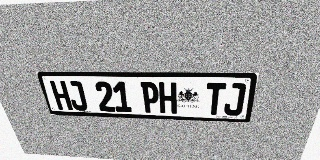1: (111, 81, 132, 112)
2: (94, 81, 116, 112)
H: (49, 81, 73, 110), (159, 82, 177, 114)
J: (223, 83, 247, 116), (65, 81, 88, 111)
P: (140, 82, 159, 113)
T: (205, 83, 226, 115)
